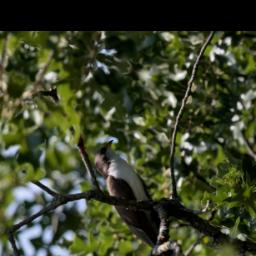Cuckoo: (67, 134, 231, 256)
